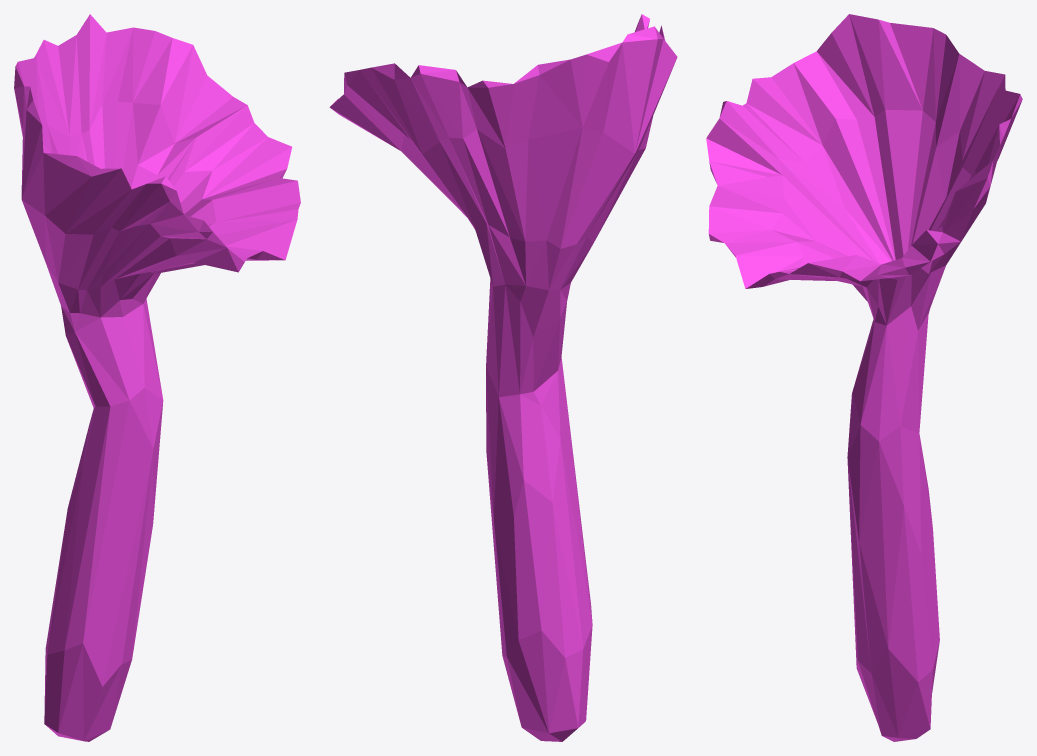
File: SM_Mushroom_Trumpet_Big_C_Fantasy.fbx
The picture shows the model from 3 angles, left to right: view 1: azimuth 30°, elevation 25°; view 2: azimuth 150°, elevation 25°; view 3: azimuth 270°, elevation 25°; orthographic projection. The views are drawn at different scales.
Parts seen in each view (by area): view 1: SM_Mushroom_Trumpet_Big_C_Fantasy; view 2: SM_Mushroom_Trumpet_Big_C_Fantasy; view 3: SM_Mushroom_Trumpet_Big_C_Fantasy.
Boxes of the visible parts, x1,y1,x2,y2 form: SM_Mushroom_Trumpet_Big_C_Fantasy: [14, 14, 300, 741]; SM_Mushroom_Trumpet_Big_C_Fantasy: [329, 14, 677, 741]; SM_Mushroom_Trumpet_Big_C_Fantasy: [706, 14, 1022, 741].
Size of the model in its own units: 1.31 by 3.03 by 1.26.
